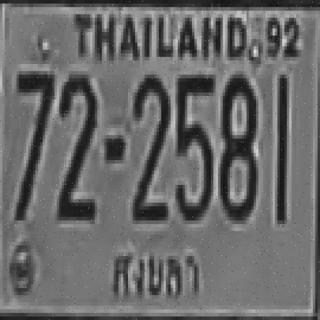N01: (275, 73, 287, 219)
N02: (57, 73, 98, 223), (132, 73, 171, 224)
N05: (173, 71, 216, 223)
N07: (14, 68, 55, 222)
N08: (218, 71, 261, 224)
P64: (106, 236, 204, 304)
